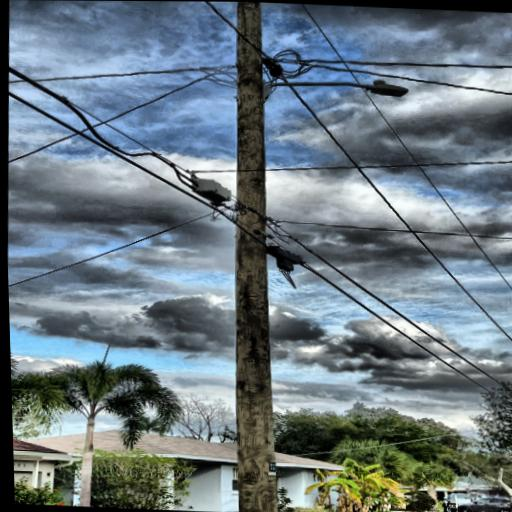pole: (214, 2, 308, 512)
street light: (251, 72, 410, 111)
